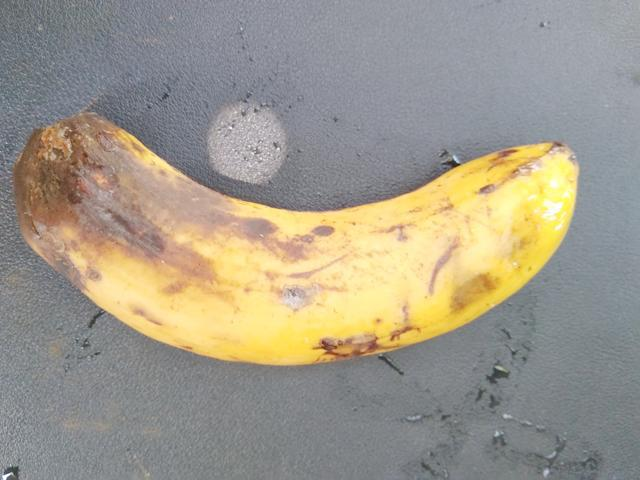rotten: (7, 62, 570, 398)
